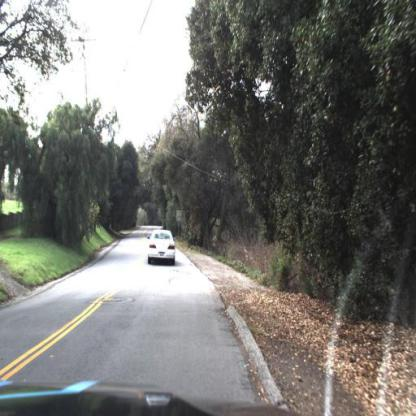car: (142, 226, 183, 273)
